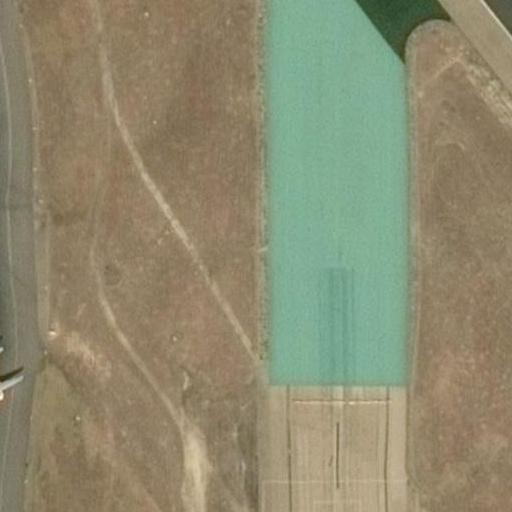Aircraft: (0, 333, 28, 423)
